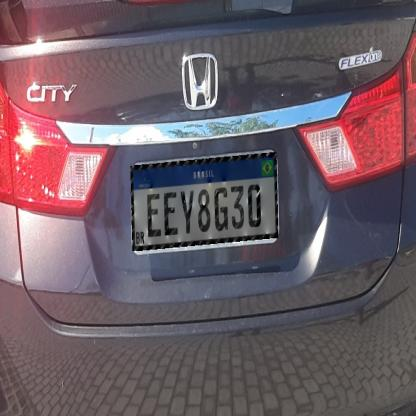PlacaM: (130, 152, 278, 251)
